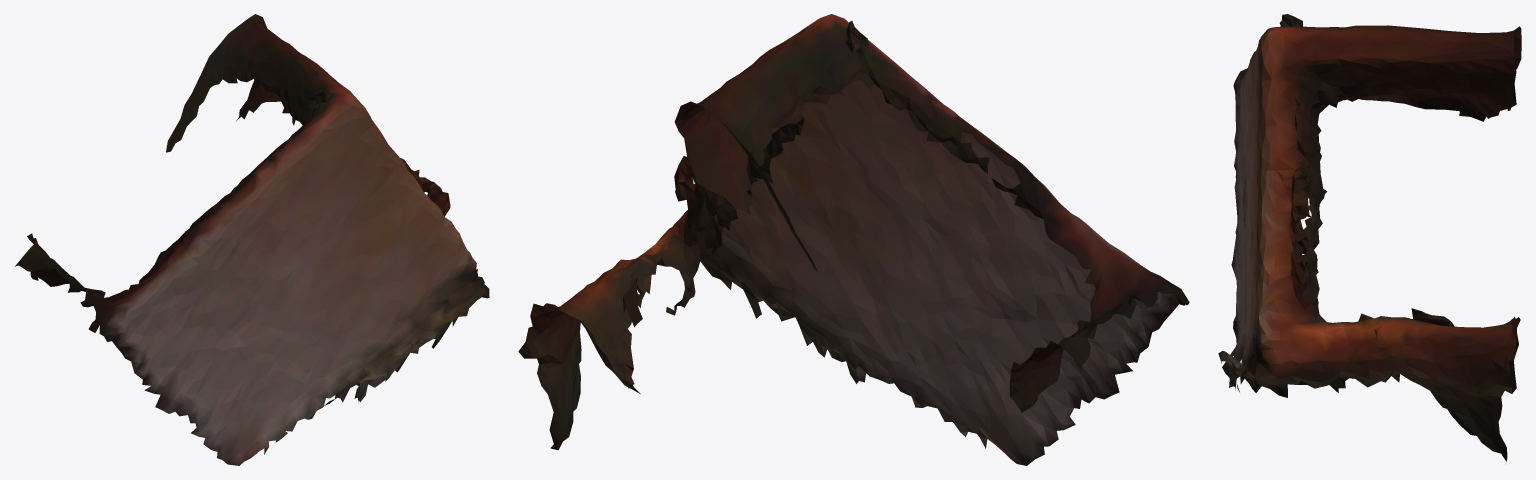
The model's file is 7-coffee table.rot.rot.obj.
3 renders of one model, left to right at view 1: azimuth 30°, elevation 25°; view 2: azimuth 150°, elevation 25°; view 3: azimuth 270°, elevation 25°, orthographic. The views are drawn at different scales.
Size of the model in its own units: 0.8492 by 0.66 by 0.4435.
